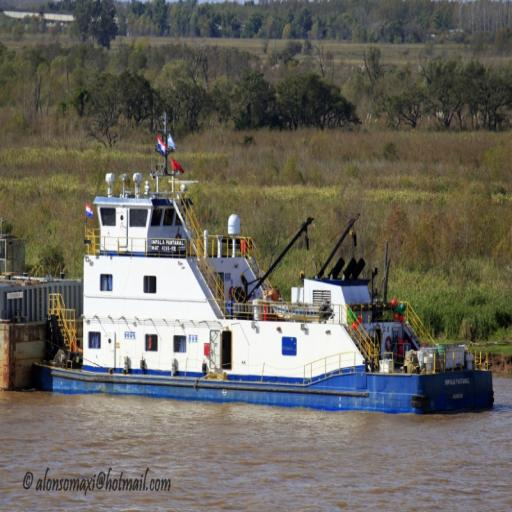tugboat: (30, 118, 500, 423)
